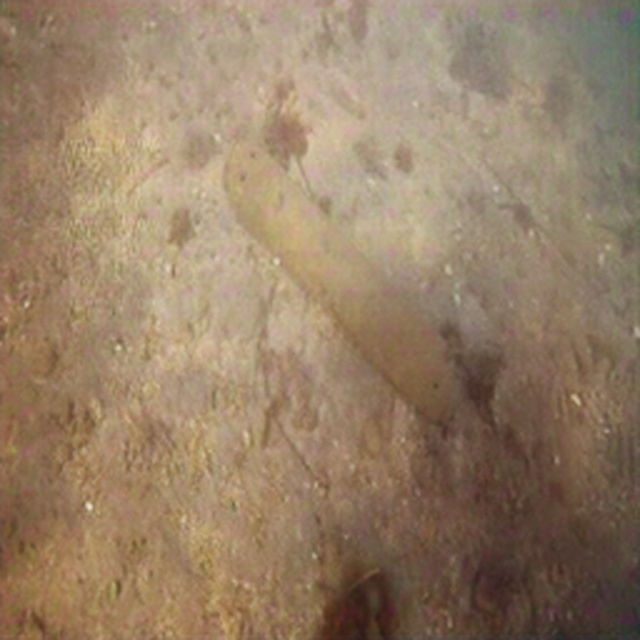mine: (222, 133, 463, 426)
